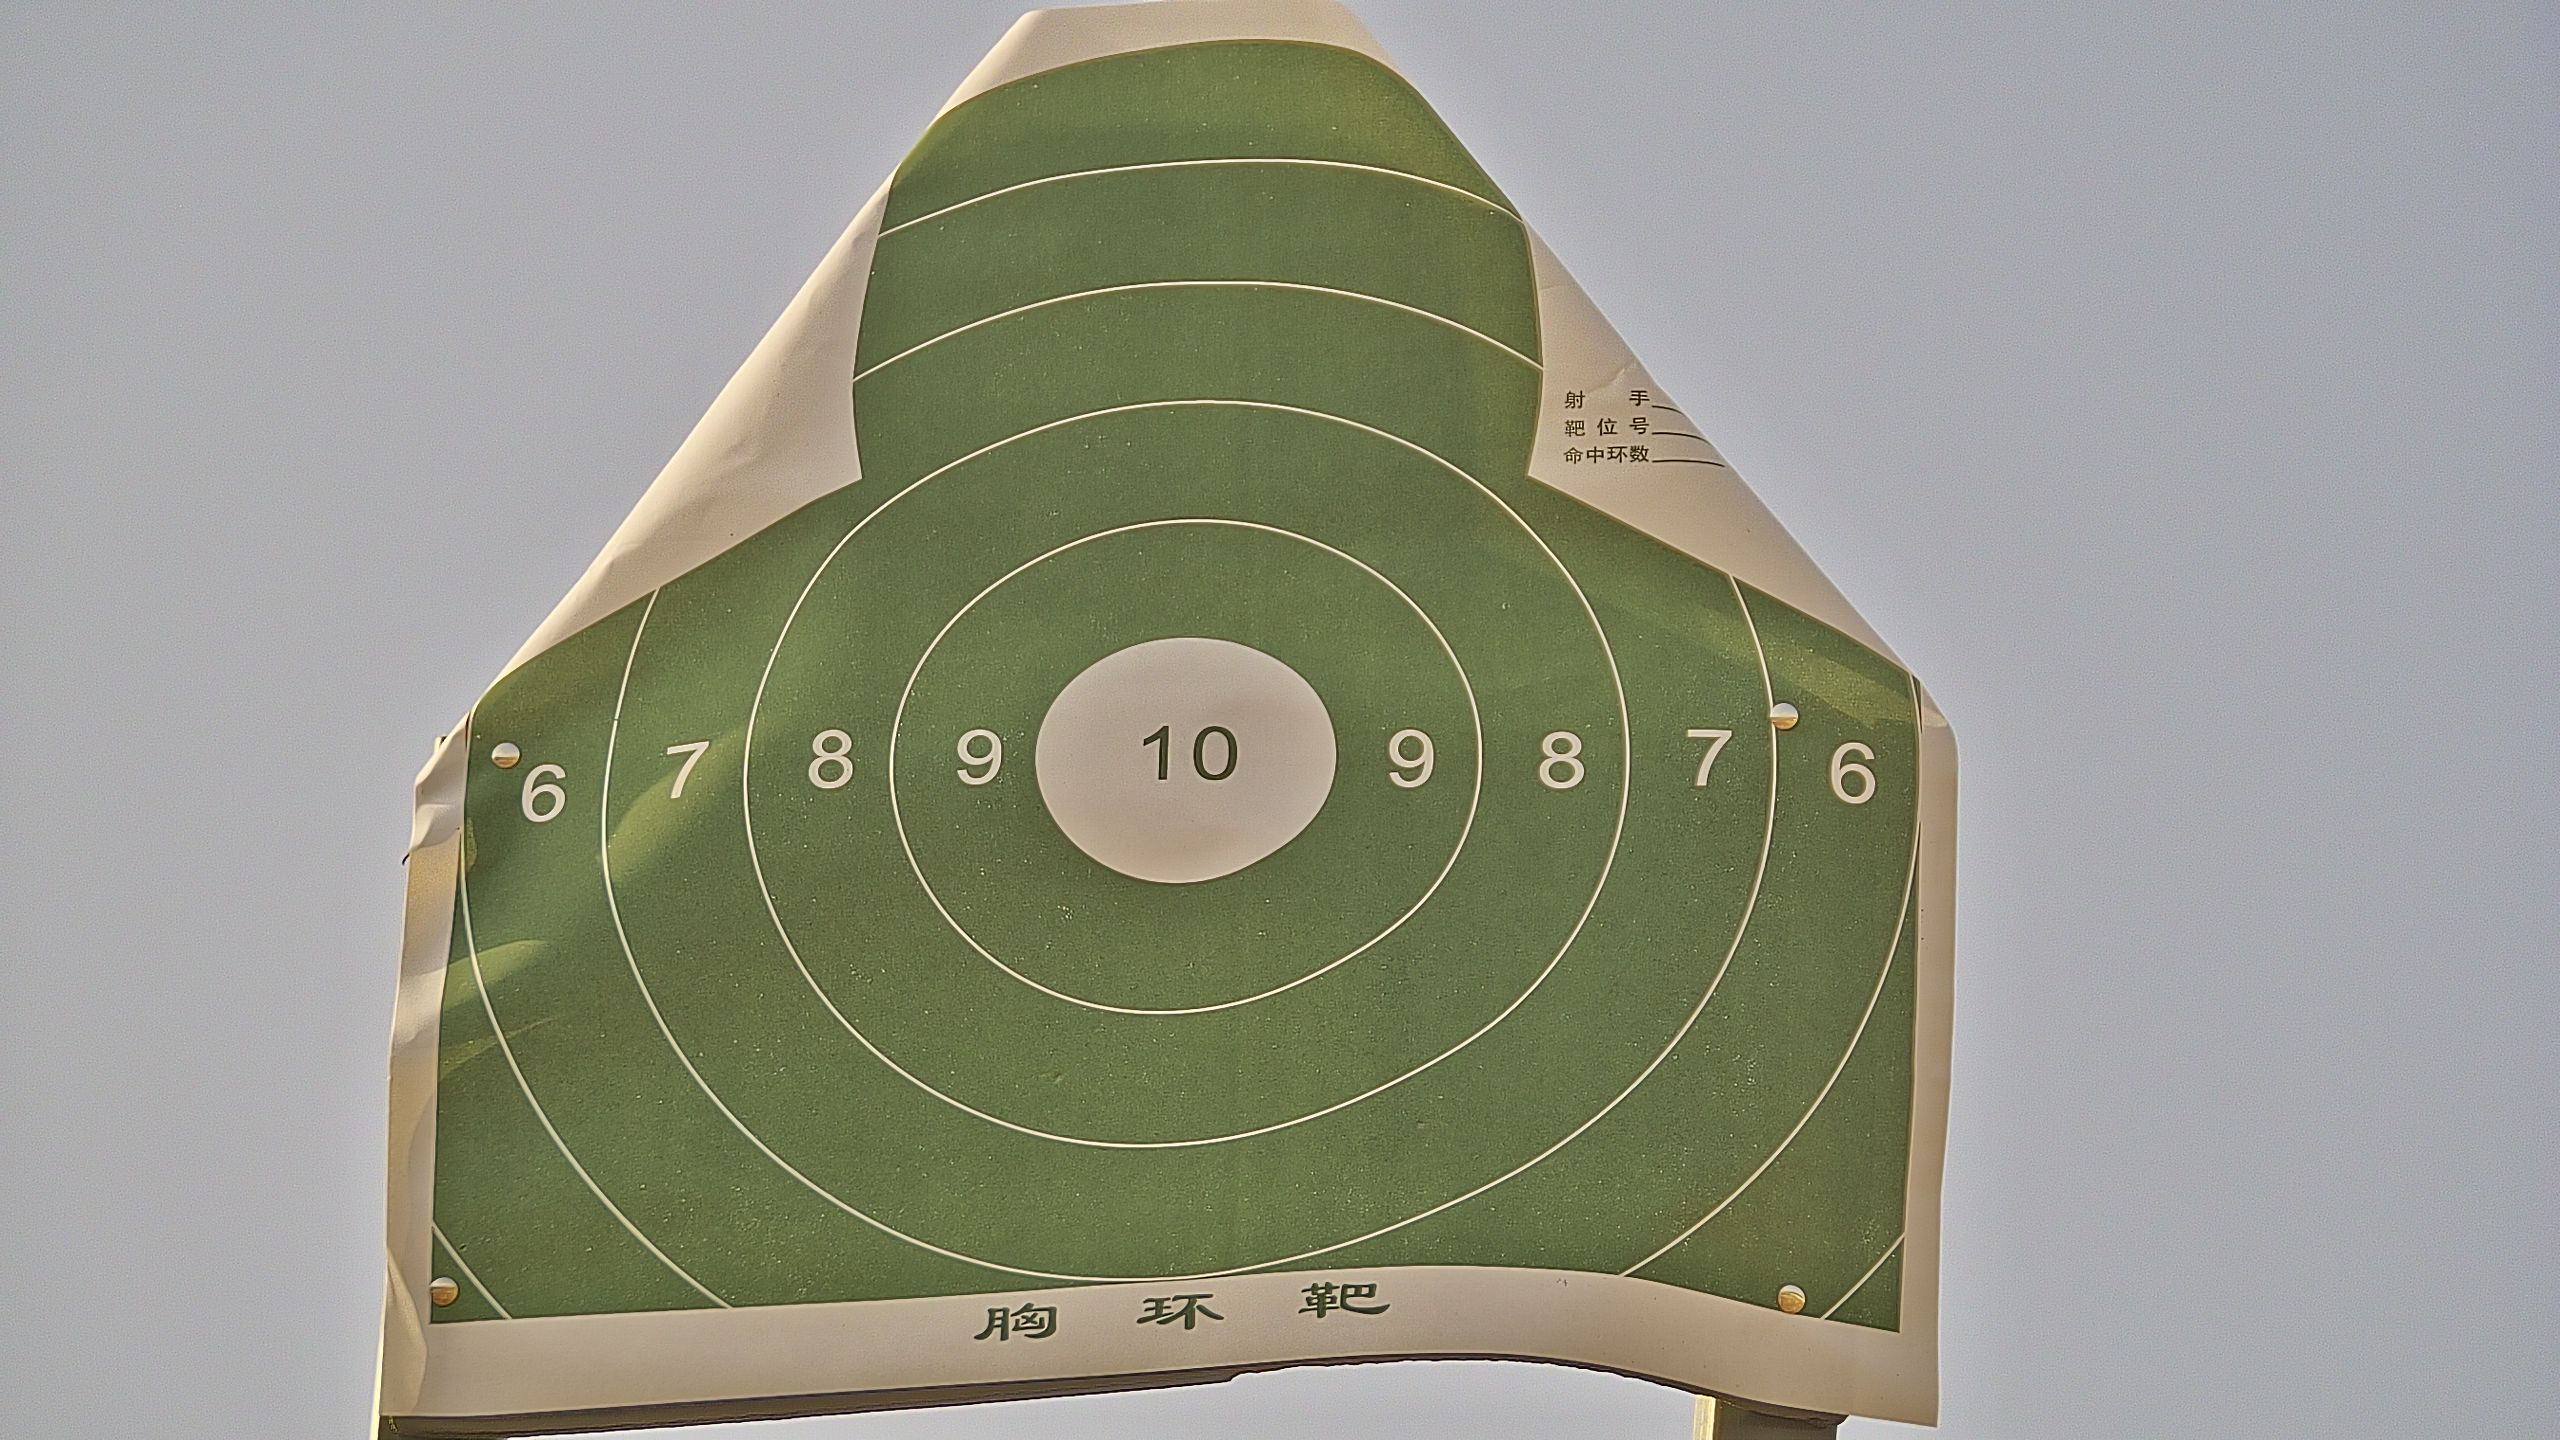kernel: (1182, 754, 1187, 758)
target: (434, 40, 1915, 1357)
ten: (1034, 635, 1336, 888)
